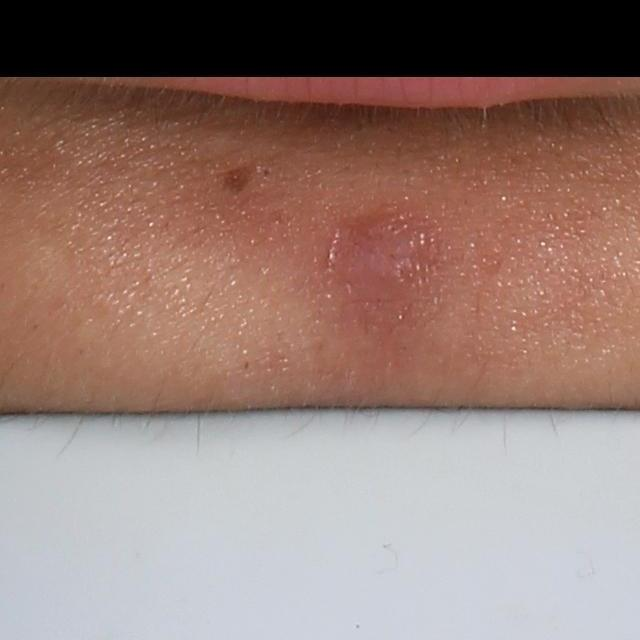comedo: (258, 164, 273, 181)
